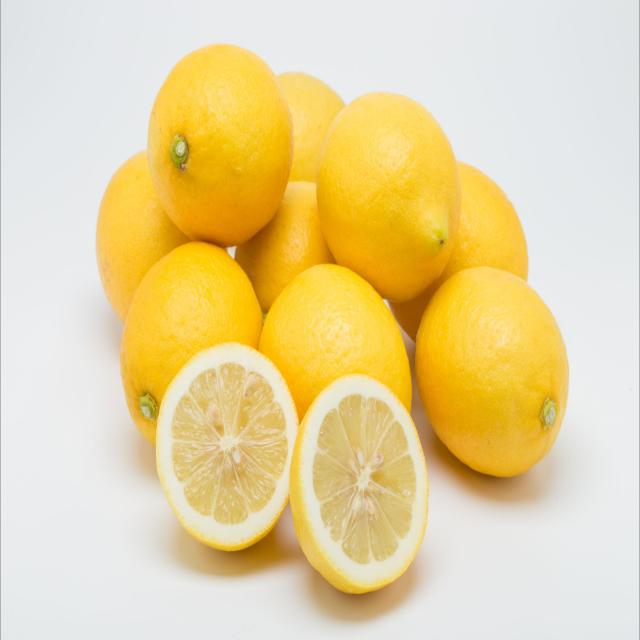lemon: (151, 336, 306, 556), (287, 368, 432, 598)
